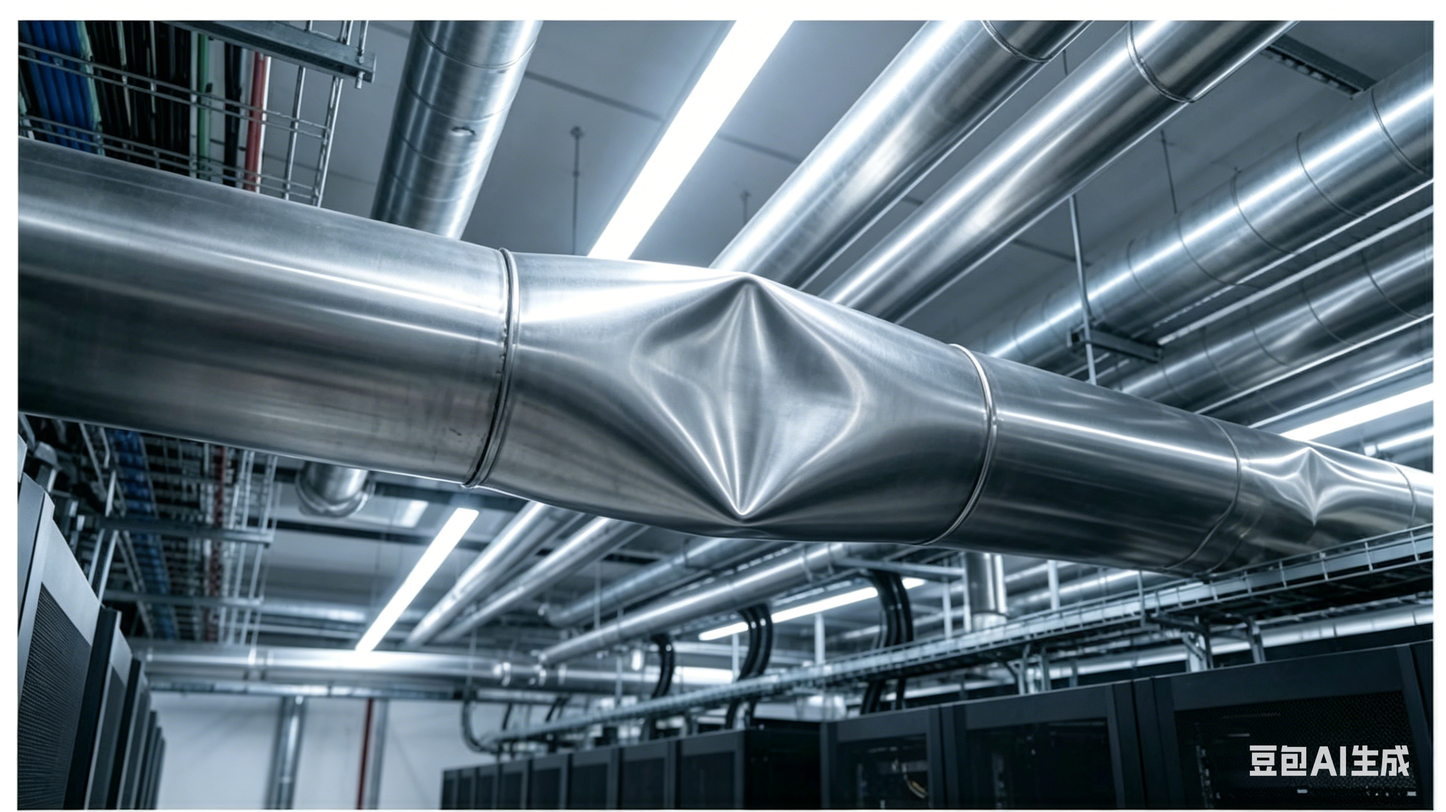Leakage: (594, 252, 886, 536), (1228, 436, 1412, 530)
